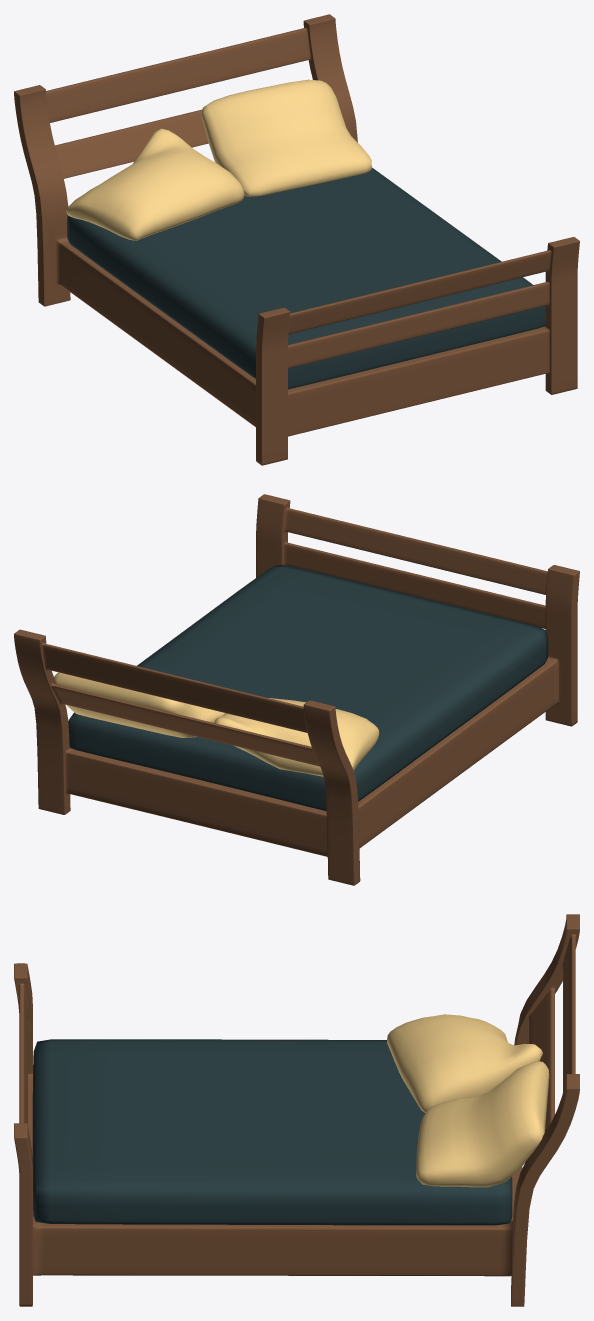
The model's file is 54_bed.glb.
The picture shows the model from 3 angles, top to bottom: view 1: azimuth 30°, elevation 25°; view 2: azimuth 150°, elevation 25°; view 3: azimuth 270°, elevation 25°; orthographic projection. The views are drawn at different scales.
Parts seen in each view (by area): view 1: bed, matress, pillow right, pillow left; view 2: bed, matress, pillow left, pillow right; view 3: matress, bed, pillow right, pillow left.
Boxes of the visible parts, box(x1,y1,x2,y2) form: bed: box(14, 14, 579, 465); matress: box(67, 167, 545, 389); pillow right: box(201, 79, 371, 196); pillow left: box(66, 128, 244, 240); bed: box(14, 494, 579, 885); matress: box(68, 564, 548, 810); pillow left: box(214, 698, 379, 776); pillow right: box(54, 672, 224, 737); matress: box(32, 1039, 512, 1225); bed: box(14, 914, 579, 1306); pillow right: box(416, 1061, 549, 1187); pillow left: box(387, 1014, 542, 1112).
Bounding box in the file's own units: 1.97 × 1.15 × 2.7.
